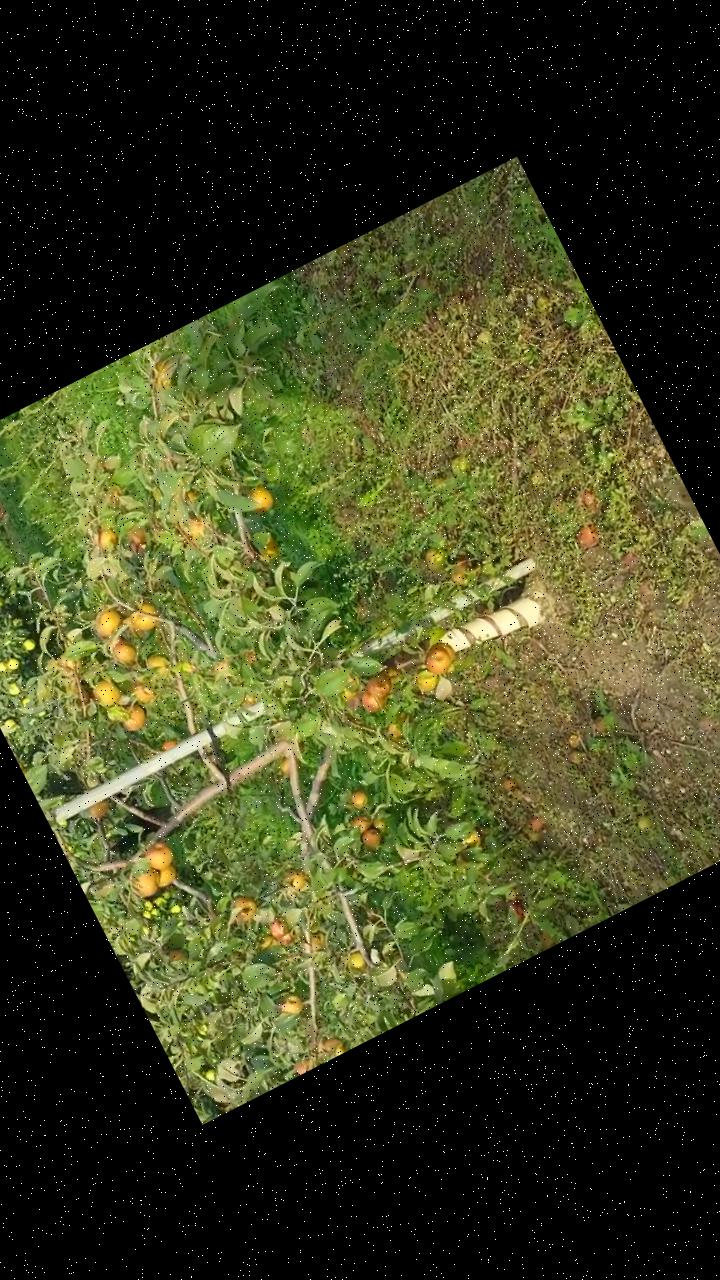Apple: (114, 698, 156, 738), (123, 598, 163, 637), (332, 672, 369, 714), (125, 865, 165, 902), (86, 606, 125, 642), (139, 838, 175, 874), (224, 890, 262, 924), (123, 524, 156, 559), (90, 676, 122, 710), (242, 483, 274, 516), (357, 684, 390, 716), (408, 665, 441, 697), (421, 646, 453, 678), (264, 915, 294, 949), (89, 524, 120, 556), (426, 639, 458, 670), (252, 535, 282, 567), (176, 514, 207, 544), (275, 993, 305, 1023), (357, 826, 387, 856), (84, 796, 114, 824), (110, 638, 138, 668), (364, 675, 393, 701), (318, 1034, 346, 1060), (130, 681, 156, 708), (290, 1052, 318, 1076), (458, 830, 484, 855), (144, 653, 170, 677), (347, 787, 371, 813), (382, 720, 407, 744), (154, 866, 178, 890), (284, 870, 308, 894), (345, 950, 365, 974), (349, 812, 372, 832), (241, 648, 259, 667), (159, 738, 178, 754)
